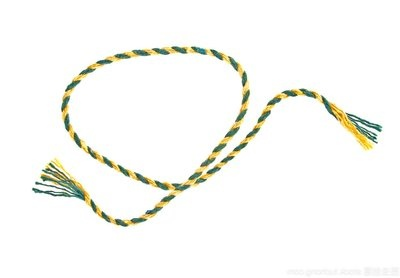9/可回收垃圾/绳子: (32, 46, 382, 227)
